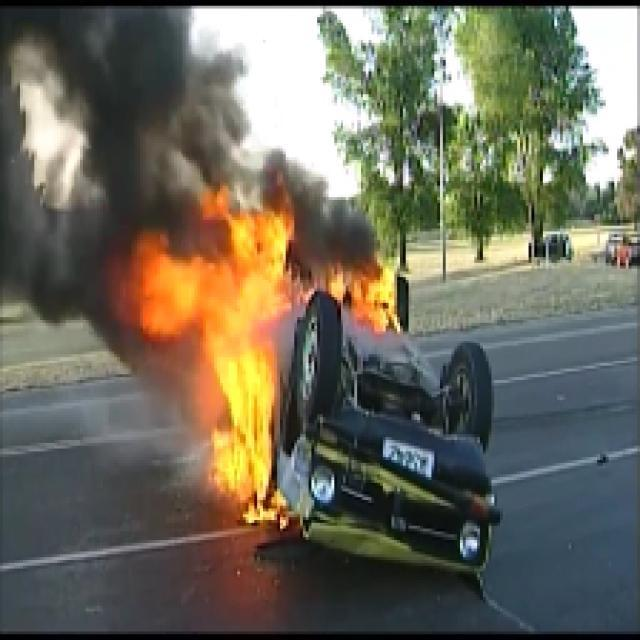Fire: (156, 235, 282, 492)
Smoke: (8, 20, 198, 236)
